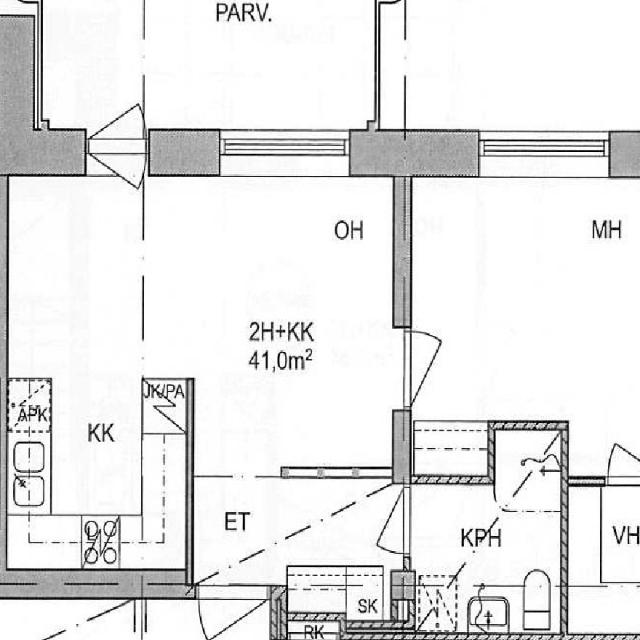door: (87, 128, 146, 247), (87, 56, 146, 175), (404, 330, 474, 408), (349, 487, 410, 553), (606, 408, 640, 483)
